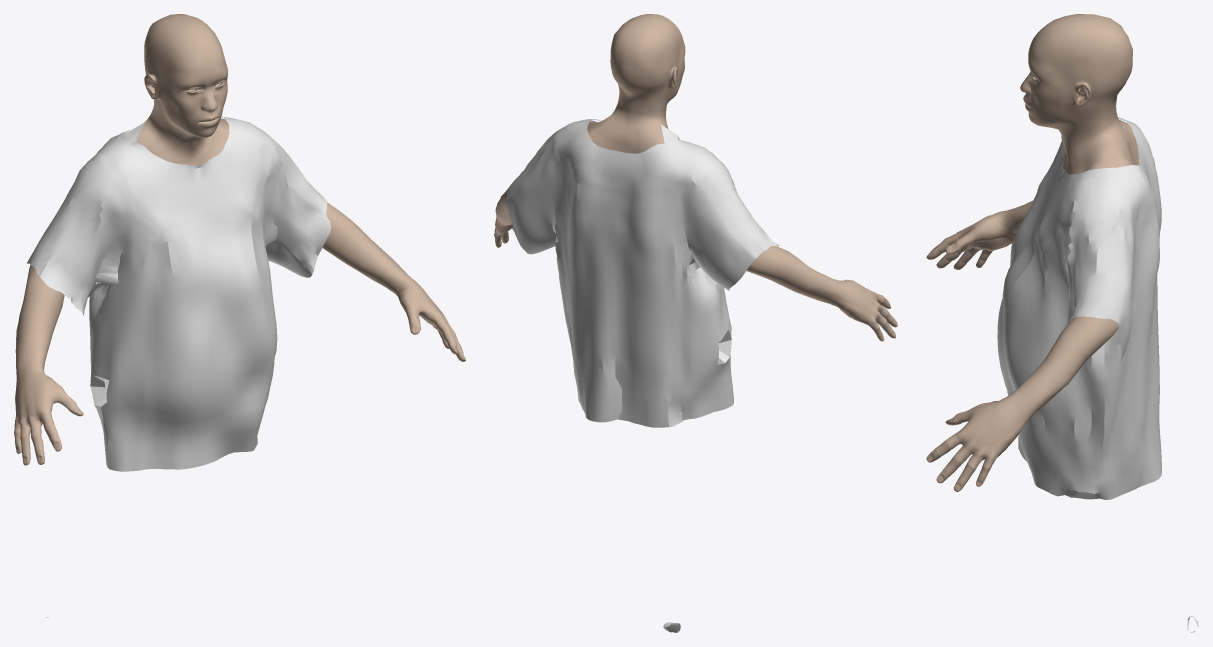
3 renders of one model, left to right at view 1: azimuth 30°, elevation 25°; view 2: azimuth 150°, elevation 25°; view 3: azimuth 270°, elevation 25°, orthographic. The views are drawn at different scales.
Visible parts, largest first — view 1: Cube, Base; view 2: Cube, Base; view 3: Cube, Base.
Boxes of the visible parts, x1,y1,x2,y2 form: Cube: [27, 116, 331, 620]; Base: [14, 14, 465, 465]; Cube: [505, 119, 779, 632]; Base: [494, 14, 897, 341]; Cube: [997, 117, 1198, 632]; Base: [926, 14, 1139, 491].
Size of the model in its own units: 9.07 by 12.4 by 4.66.
